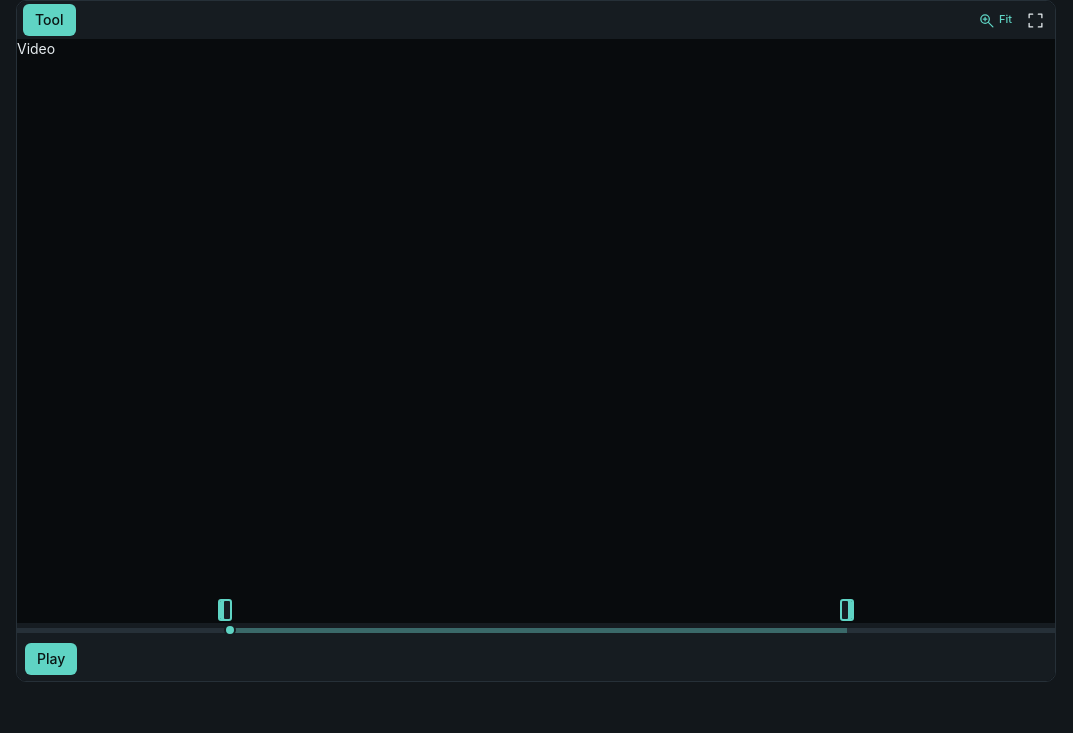
shows a real fullscreen failure when the native retry is rejected too
Click the button named "Enter fullscreen" at (1035, 20), box x1=1021 y1=7 x2=1049 y2=33
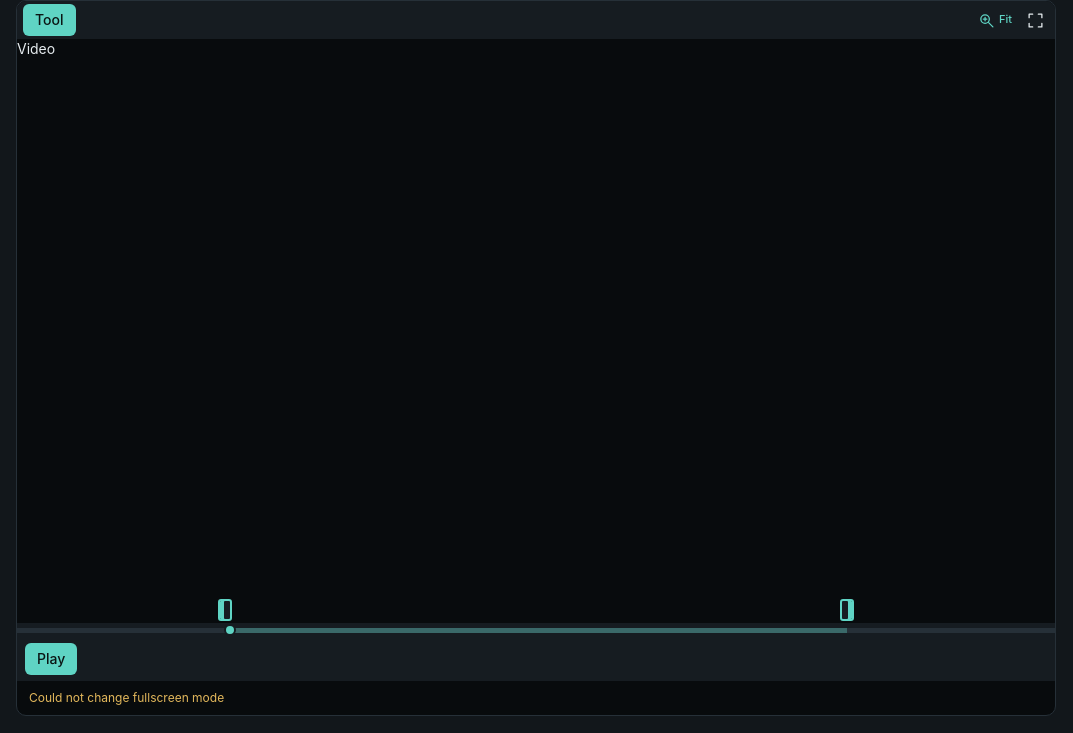
Expected: the text "Could not change fullscreen mode" is shown, x1=29 y1=690 x2=224 y2=706
